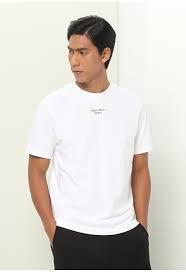Tshirt: (25, 82, 163, 236)
